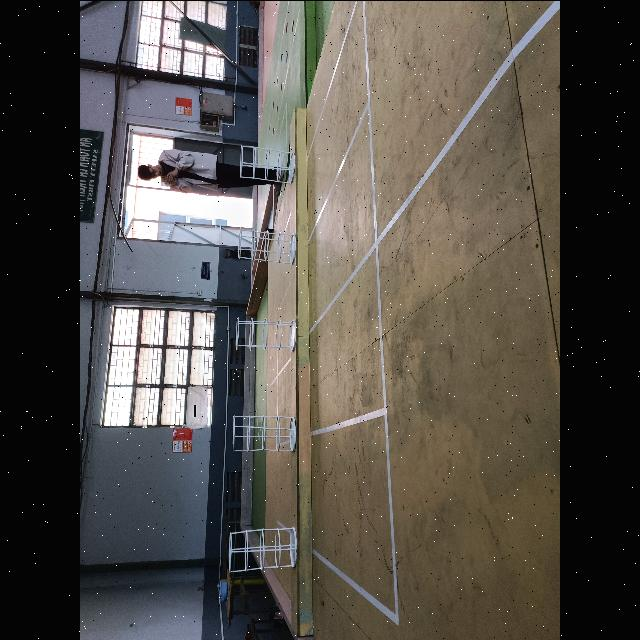S: (228, 524, 299, 573), (231, 413, 298, 453), (237, 225, 297, 266), (234, 315, 298, 352), (238, 144, 295, 184)
